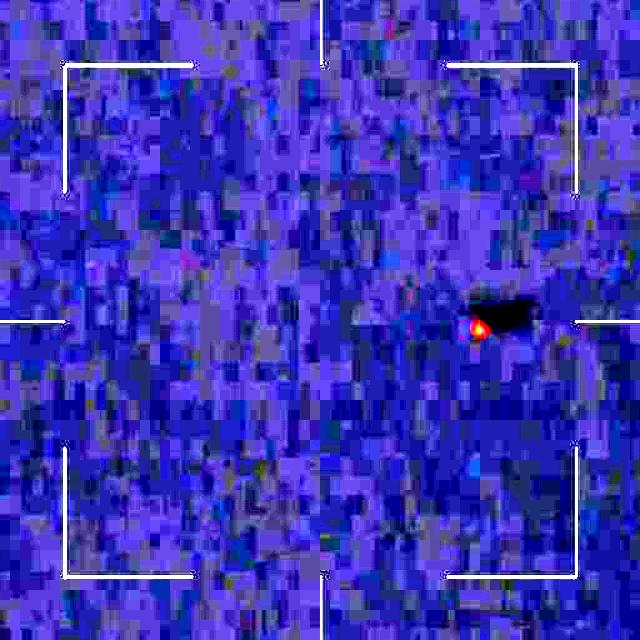bird: (469, 312, 496, 346)
